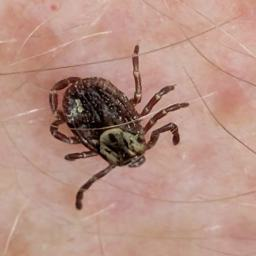Dermacentor variabilis: (46, 43, 190, 208)
